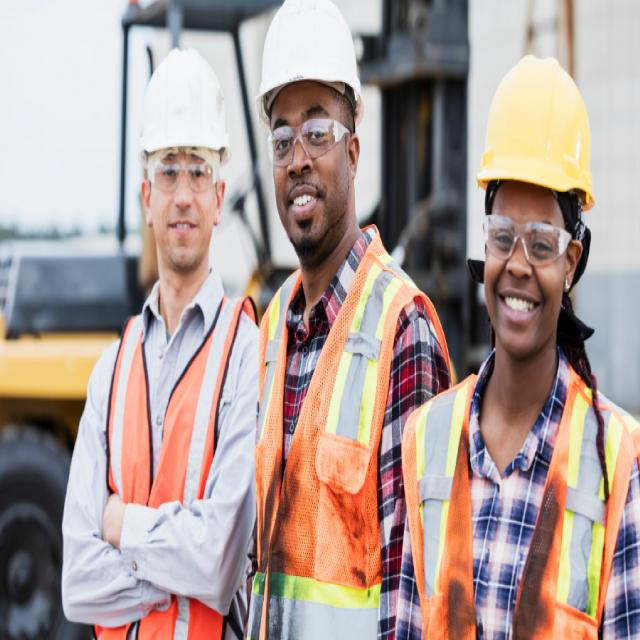Helmet: (468, 40, 608, 218), (124, 49, 241, 174), (249, 0, 370, 110)
Protective Glasses: (253, 84, 361, 174), (127, 130, 237, 207), (477, 194, 582, 274)
Vest: (388, 321, 640, 640), (236, 276, 452, 640), (83, 302, 248, 640)
